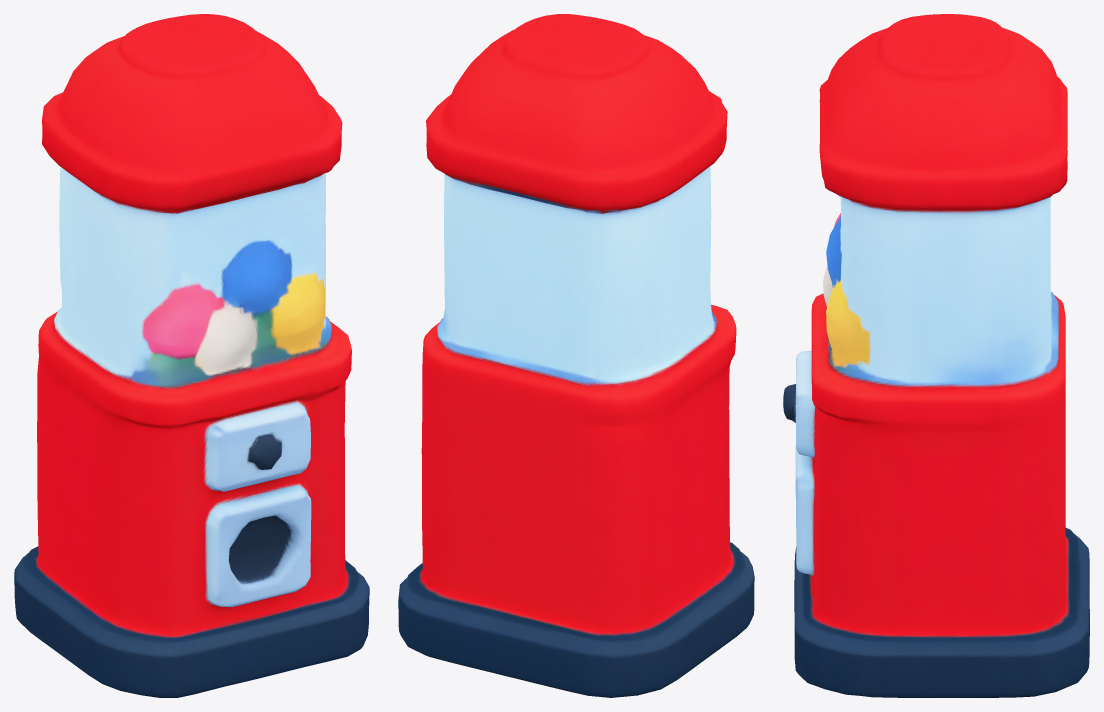
The model's file is 09-machine.fbx.
3 views of the same model, side by side, from view 1: azimuth 30°, elevation 25°; view 2: azimuth 150°, elevation 25°; view 3: azimuth 270°, elevation 25° (orthographic).
Parts seen in each view (by area): view 1: model; view 2: model; view 3: model.
Part boxes in pixels (x1,y1,x2,y2): model: (14, 14, 369, 697); model: (398, 14, 754, 697); model: (783, 14, 1089, 697).
Bounding box in the file's own units: 91.29 × 190 × 89.02.
